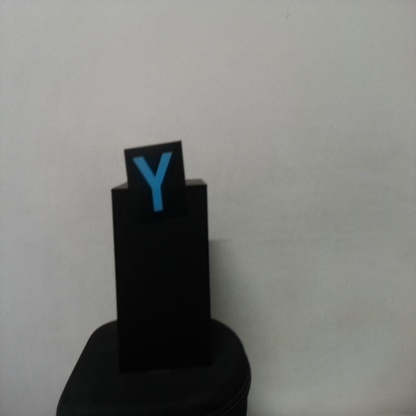id_14: (124, 148, 186, 224)
